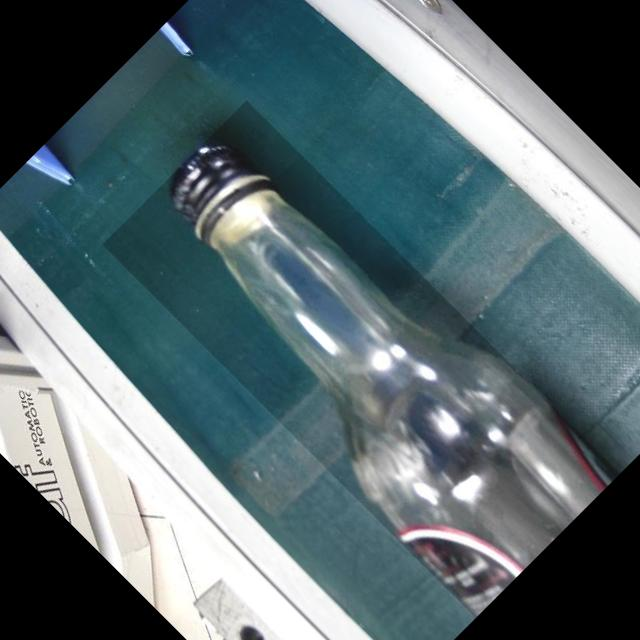BotolKaca: (101, 98, 622, 618)
